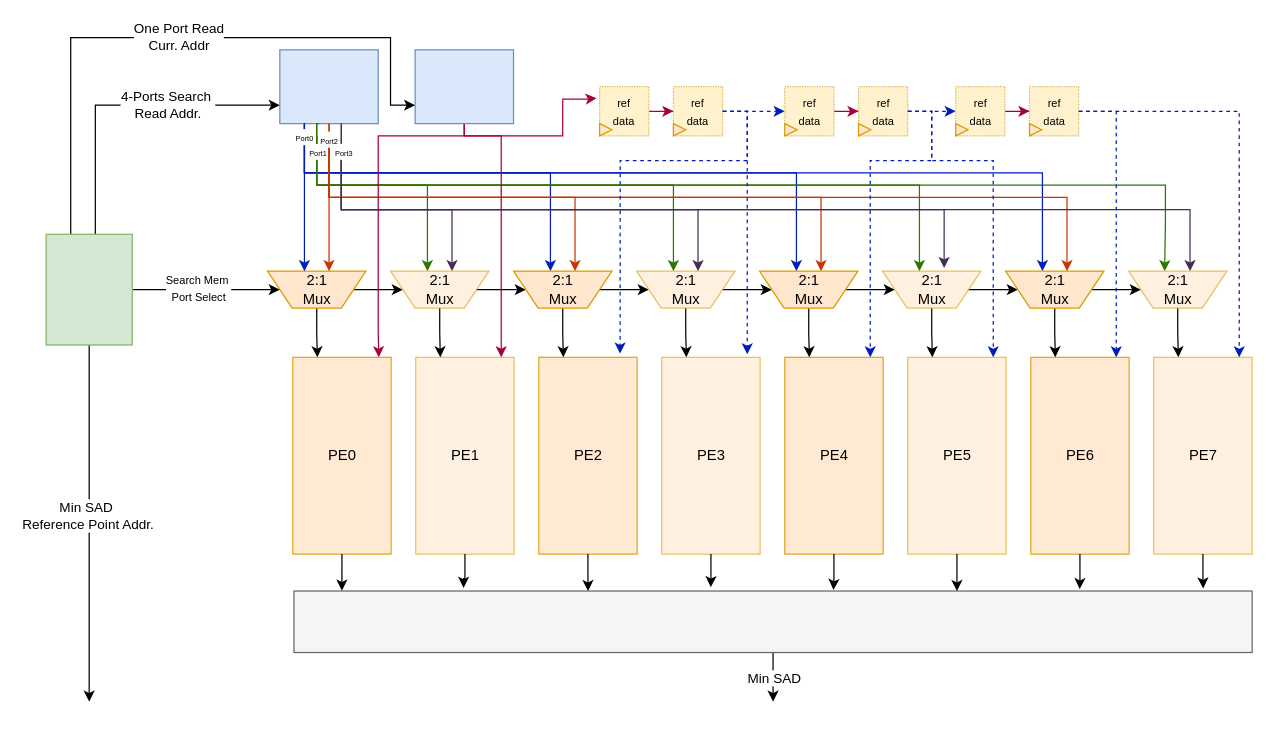
Image size: 1273x733. Some labels were removed from this diagram. Each missing label, with the centre of its shape:
"Comparator" goes at point 772,621.
"Controller" goes at point 88,289.
"Curr. Mem" goes at point 464,86.
"Search Memory" goes at point 328,86.
